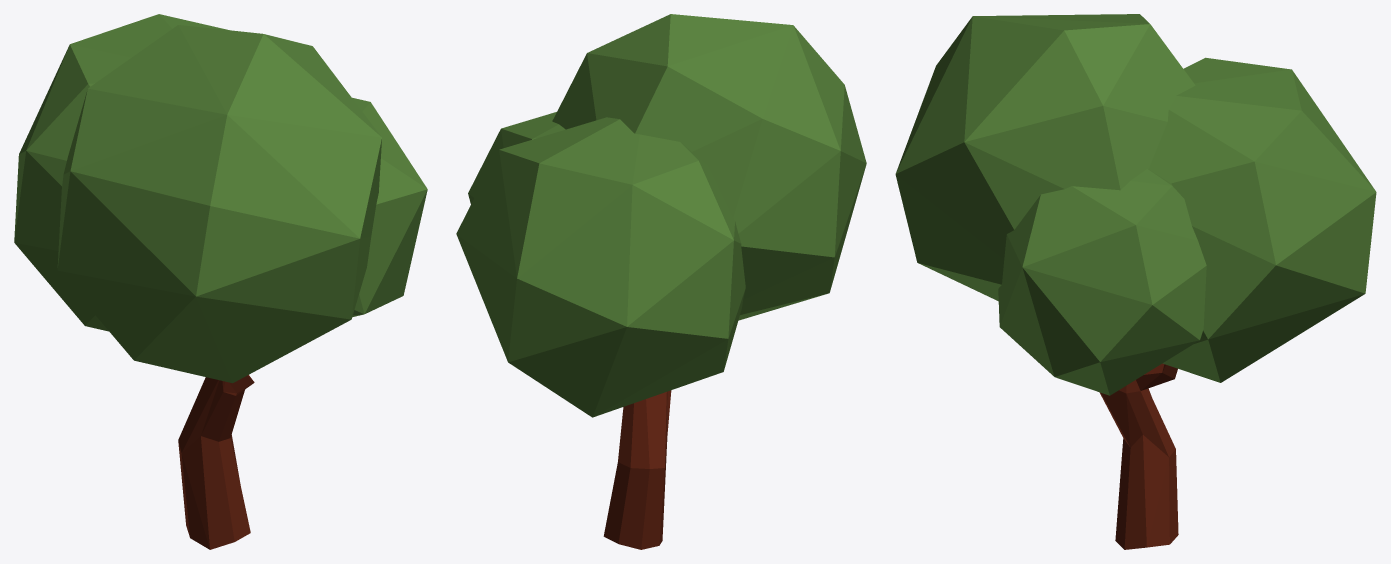
Rendered from Tree_Alive_2.fbx.
The picture shows the model from 3 angles, left to right: view 1: azimuth 30°, elevation 25°; view 2: azimuth 150°, elevation 25°; view 3: azimuth 270°, elevation 25°; orthographic projection. The views are drawn at different scales.
Visible parts, largest first — view 1: Tree.001; view 2: Tree.001; view 3: Tree.001.
Part boxes in pixels (x1,y1,x2,y2): Tree.001: (14,14,427,549); Tree.001: (456,14,866,549); Tree.001: (895,14,1376,549).
Size of the model in its own units: 239 by 338 by 284.
